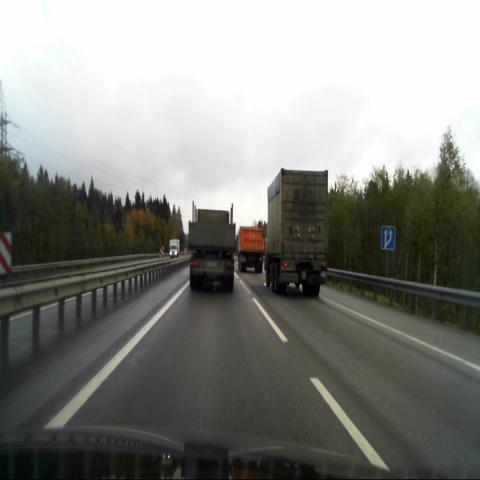5_15_3: (381, 224, 395, 250)
